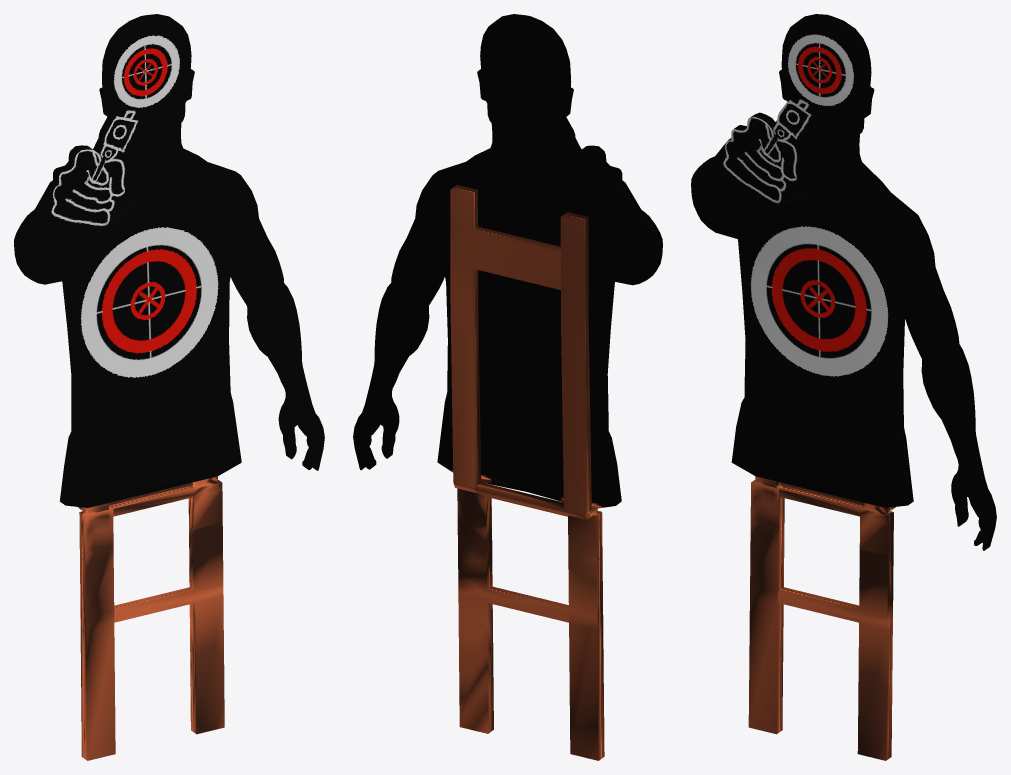
Rendered from ShootingTargetSketchfab.fbx.
3 renders of one model, left to right at view 1: azimuth 30°, elevation 25°; view 2: azimuth 150°, elevation 25°; view 3: azimuth 330°, elevation 25°, orthographic.
Visible parts, largest first — view 1: Target; view 2: Target; view 3: Target.
Part boxes in pixels (x1=…): Target: x1=14, y1=14, x2=324, y2=760; Target: x1=353, y1=14, x2=662, y2=760; Target: x1=691, y1=14, x2=996, y2=760.
Size of the model in its own units: 280 by 635 by 30.08.
1 material, 1 textured.
